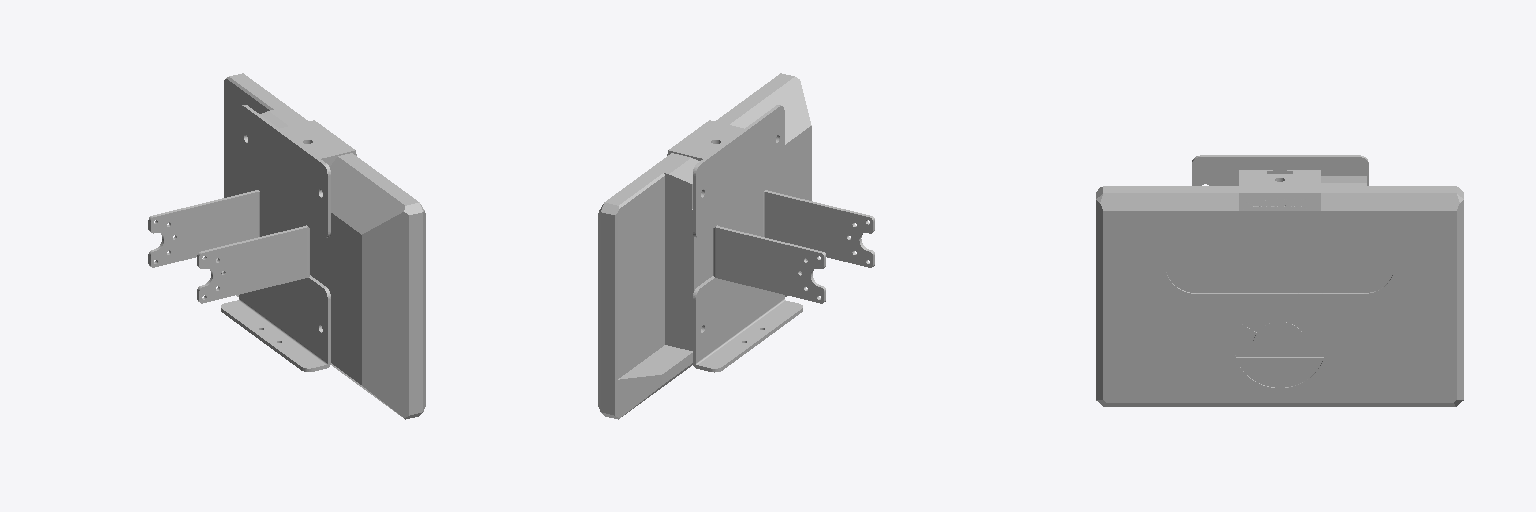
The model's file is touch_screen.obj.
3 views of the same model, side by side, from view 1: azimuth 30°, elevation 25°; view 2: azimuth 150°, elevation 25°; view 3: azimuth 270°, elevation 25° (orthographic).
Size of the model in its own units: 0.0951 by 0.1264 by 0.185.